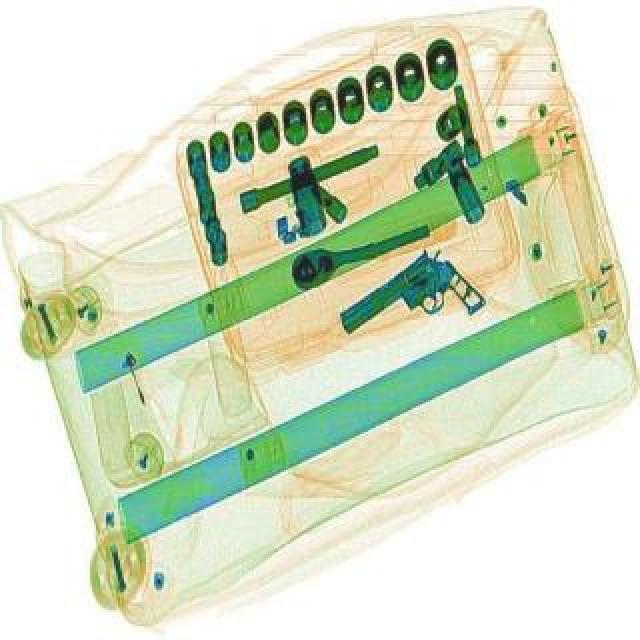gun: (328, 244, 488, 376)
